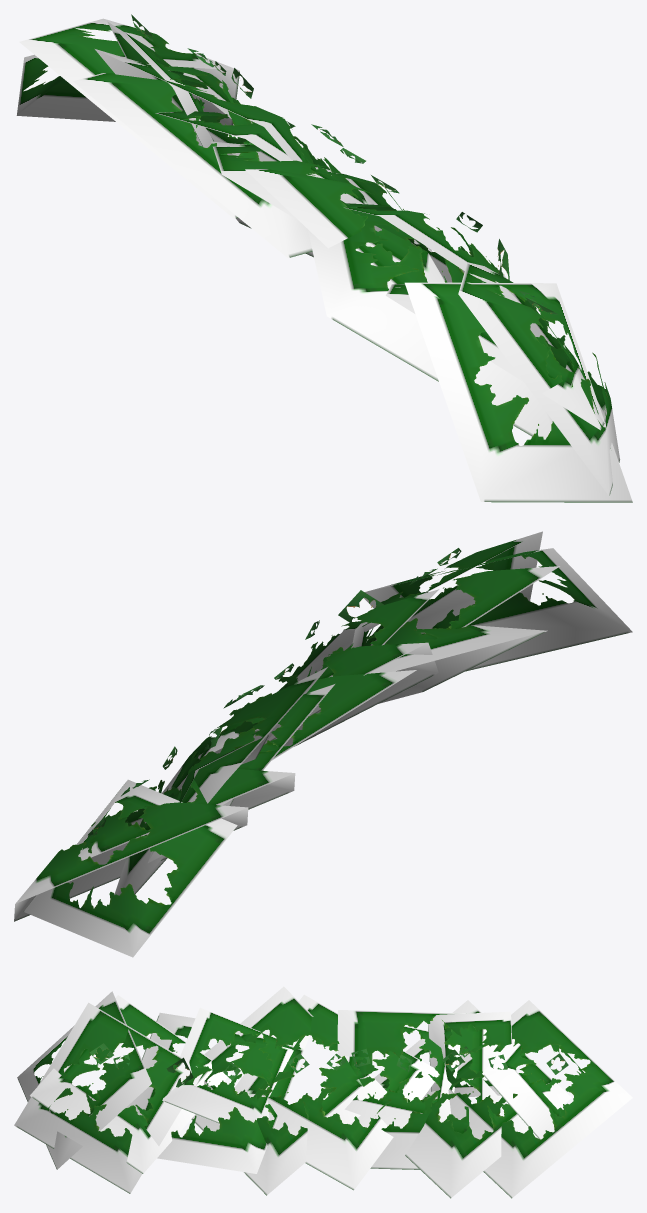
Rendered from bush21.fbx.
3 renders of one model, top to bottom at view 1: azimuth 30°, elevation 25°; view 2: azimuth 150°, elevation 25°; view 3: azimuth 270°, elevation 25°, orthographic. The views are drawn at different scales.
Visible parts, largest first — view 1: street_zhiwu04; view 2: street_zhiwu04; view 3: street_zhiwu04.
Part boxes in pixels (box(x1,y1,x2,y2)): street_zhiwu04: box(16, 14, 632, 502); street_zhiwu04: box(14, 531, 632, 957); street_zhiwu04: box(14, 986, 632, 1198).
Bounding box in the file's own units: 3.32 × 2.62 × 10.38.
Materials: 1 (1 with a texture image).
